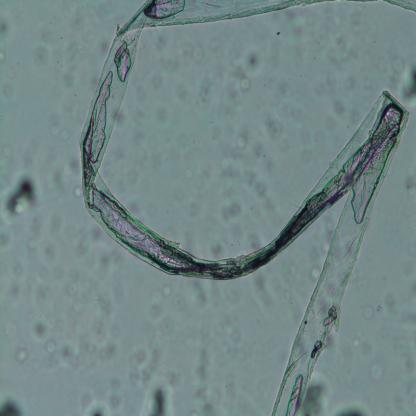Background material: (301, 374, 369, 413), (0, 172, 42, 217), (125, 343, 163, 389), (193, 344, 215, 412), (140, 376, 176, 414), (232, 50, 265, 90), (46, 340, 76, 368), (398, 58, 416, 104), (252, 269, 272, 306), (84, 392, 115, 415), (213, 153, 240, 179), (235, 159, 260, 187), (190, 276, 208, 312), (0, 391, 24, 416), (148, 281, 174, 304), (220, 200, 245, 223), (37, 242, 59, 265), (11, 342, 32, 366), (32, 314, 50, 342), (244, 223, 260, 252), (236, 125, 251, 151), (100, 343, 120, 362), (262, 114, 280, 135), (89, 220, 107, 241), (363, 300, 385, 316), (210, 240, 227, 260), (0, 224, 13, 250), (367, 361, 382, 382), (68, 156, 83, 177), (306, 262, 322, 280), (0, 18, 12, 42), (255, 182, 270, 200), (1, 83, 17, 99), (335, 98, 346, 115), (176, 292, 187, 309), (351, 336, 361, 352), (72, 186, 83, 200), (406, 176, 416, 190), (0, 46, 7, 64)
Cotton: (77, 1, 416, 415)
